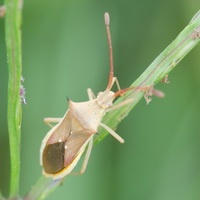insect: (46, 43, 199, 199), (40, 12, 163, 179), (51, 0, 199, 113)
